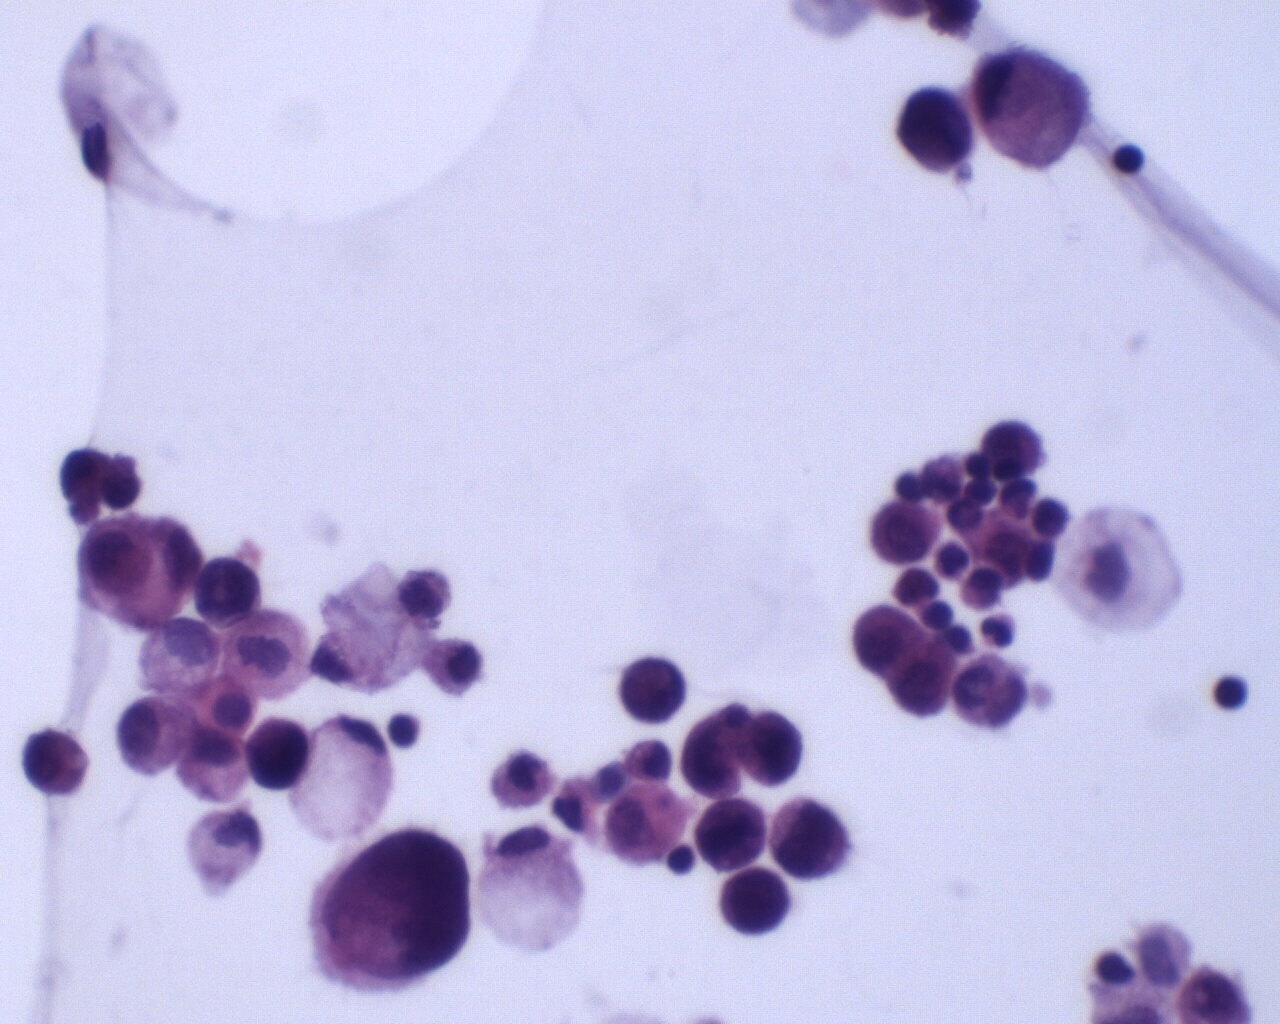ab: (319, 823, 472, 988), (889, 79, 983, 177), (770, 798, 853, 887), (190, 549, 270, 630), (716, 866, 796, 942), (696, 796, 773, 872), (736, 706, 806, 789), (850, 600, 924, 677), (890, 645, 964, 721), (866, 497, 944, 568), (245, 715, 313, 794), (618, 653, 691, 727), (977, 413, 1058, 479)
histo: (970, 41, 1097, 173), (478, 825, 587, 952), (293, 711, 393, 839)
lymph: (1107, 138, 1151, 184), (1209, 672, 1252, 715)
meso: (19, 725, 92, 798)
neutro: (974, 612, 1015, 651)
